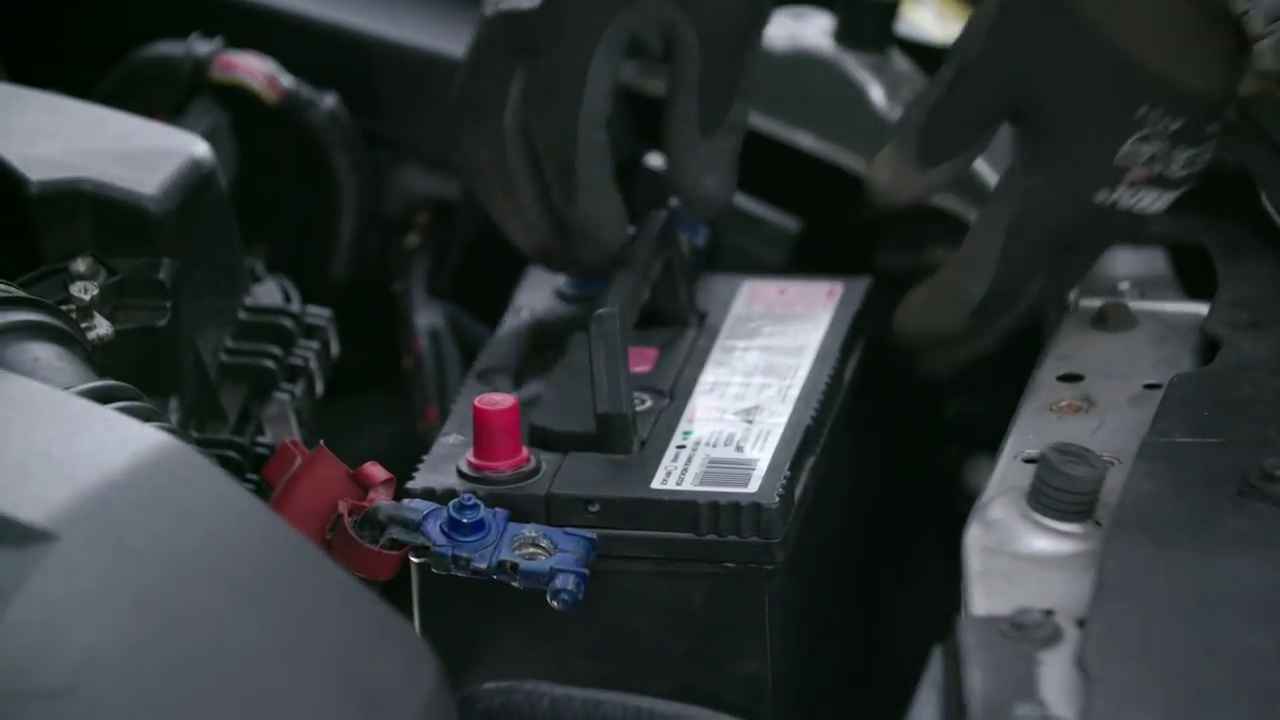battery: (409, 249, 873, 515)
pos_disconnected: (248, 371, 551, 578)
